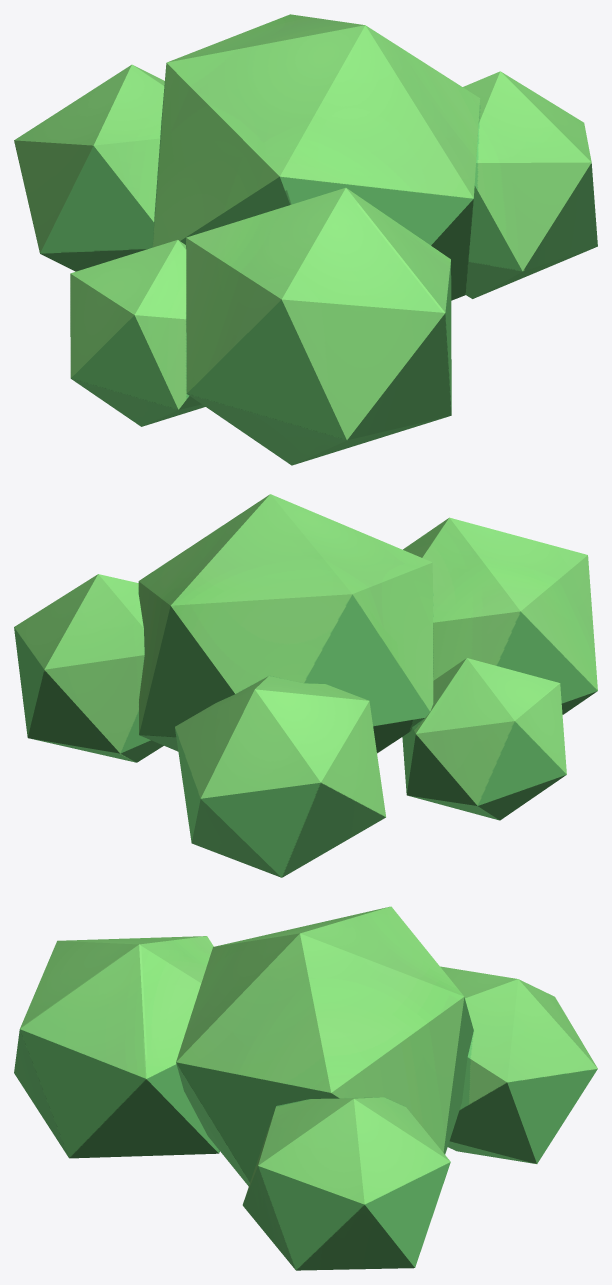
The model's file is Large Bush.fbx.
3 renders of one model, top to bottom at view 1: azimuth 30°, elevation 25°; view 2: azimuth 150°, elevation 25°; view 3: azimuth 270°, elevation 25°, orthographic. The views are drawn at different scales.
Visible parts, largest first — view 1: Large Bush; view 2: Large Bush; view 3: Large Bush.
Part boxes in pixels (x1,y1,x2,y2): Large Bush: (14, 14, 597, 465); Large Bush: (14, 494, 597, 877); Large Bush: (14, 906, 597, 1270).
Size of the model in its own units: 456 by 252 by 464.
